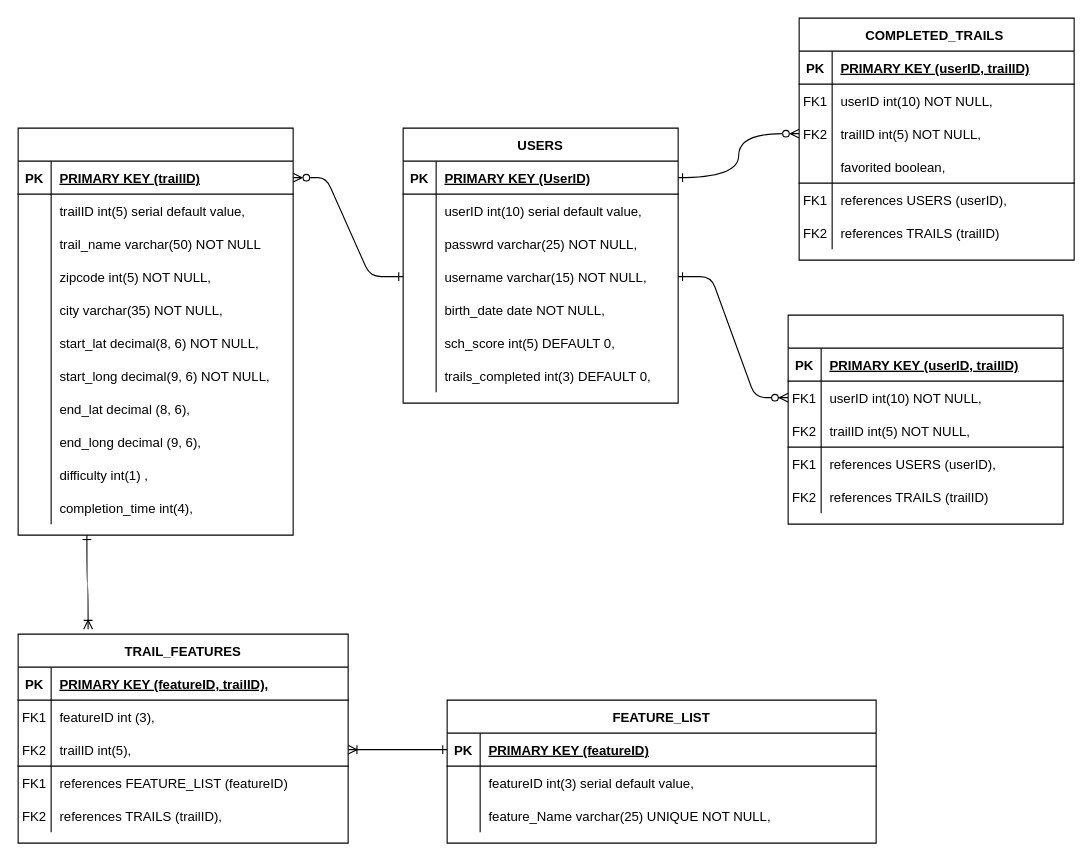
Some shapes in this 1092 by 861 pixel diagram are drawn without their labels. The box of each missing label's shape, as (x1, y1, x2, y2) in pixels:
DESIRED_TRAILS: (787, 314, 1063, 524)
TRAILS: (17, 127, 293, 535)
